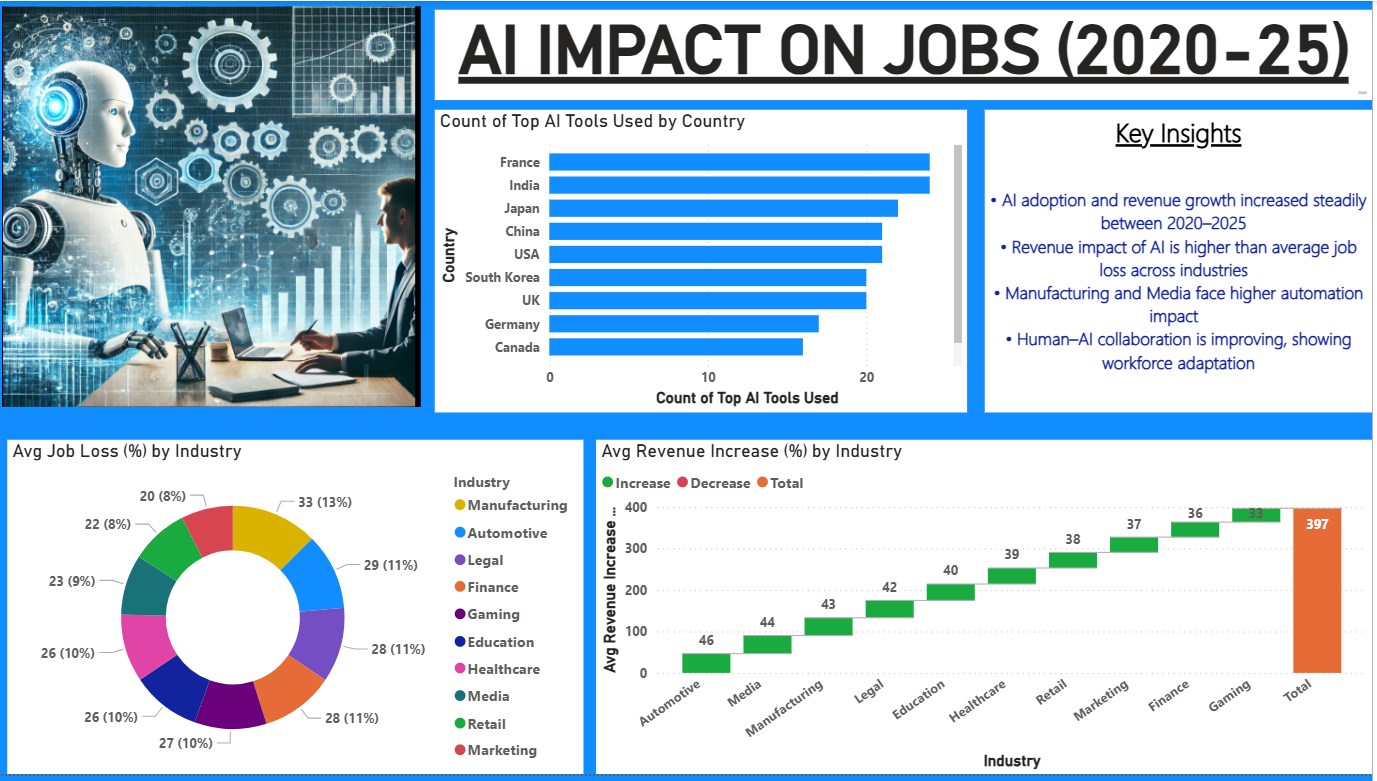

The page's visual inventory and layout, read from the dashboard file:
{"tool":"powerbi","page":{"name":"Page 1","canvas":[1280,720],"ordinal":0},"visuals":[{"type":"waterfallChart","fields":{"Category":["AI_Impact.Industry"],"Y":["AI_Impact.Avg Revenue Increase (%)"]},"box":[558.1,408.1,722.1,311.6],"z":0},{"type":"image","box":[0,0,400,382.6],"z":1},{"type":"textbox","title":"AI IMPACT ON JOBS (2020-25)","box":[408.1,8.1,872.1,83.7],"z":2},{"type":"donutChart","fields":{"Y":["AI_Impact.Avg Job Loss (%)"],"Category":["AI_Impact.Industry"]},"box":[10.5,408.1,536,311.6],"z":5},{"type":"clusteredBarChart","fields":{"Category":["AI_Impact.Country"],"Y":["CountNonNull(AI_Impact.Top AI Tools Used)"]},"box":[408.1,101.2,495.4,281.4],"z":6},{"type":"textbox","box":[919.8,101.2,360.5,281.4],"z":7}]}

Visuals, with their boxes in screenshot pixels (x1, y1, x2, y2), scaled from the page's 1280x720 canvas onto the 1377x781 screenshot:
waterfallChart - AI_Impact.Industry x AI_Impact.Avg Revenue Increase (%): detection(600, 443, 1376, 780)
image: detection(0, 0, 430, 415)
"AI IMPACT ON JOBS (2020-25)" textbox: detection(439, 9, 1376, 100)
donutChart - AI_Impact.Avg Job Loss (%) x AI_Impact.Industry: detection(11, 443, 588, 780)
clusteredBarChart - AI_Impact.Country x CountNonNull(AI_Impact.Top AI Tools Used): detection(439, 110, 972, 415)
textbox: detection(990, 110, 1376, 415)
